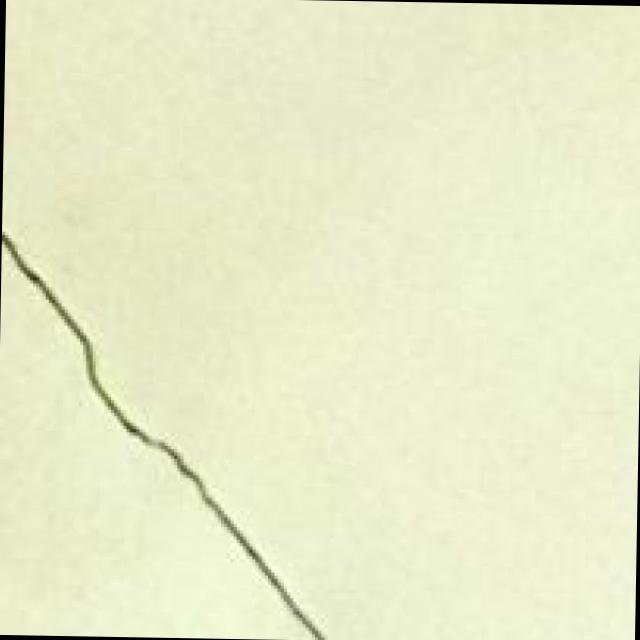crack: (0, 186, 348, 637)
